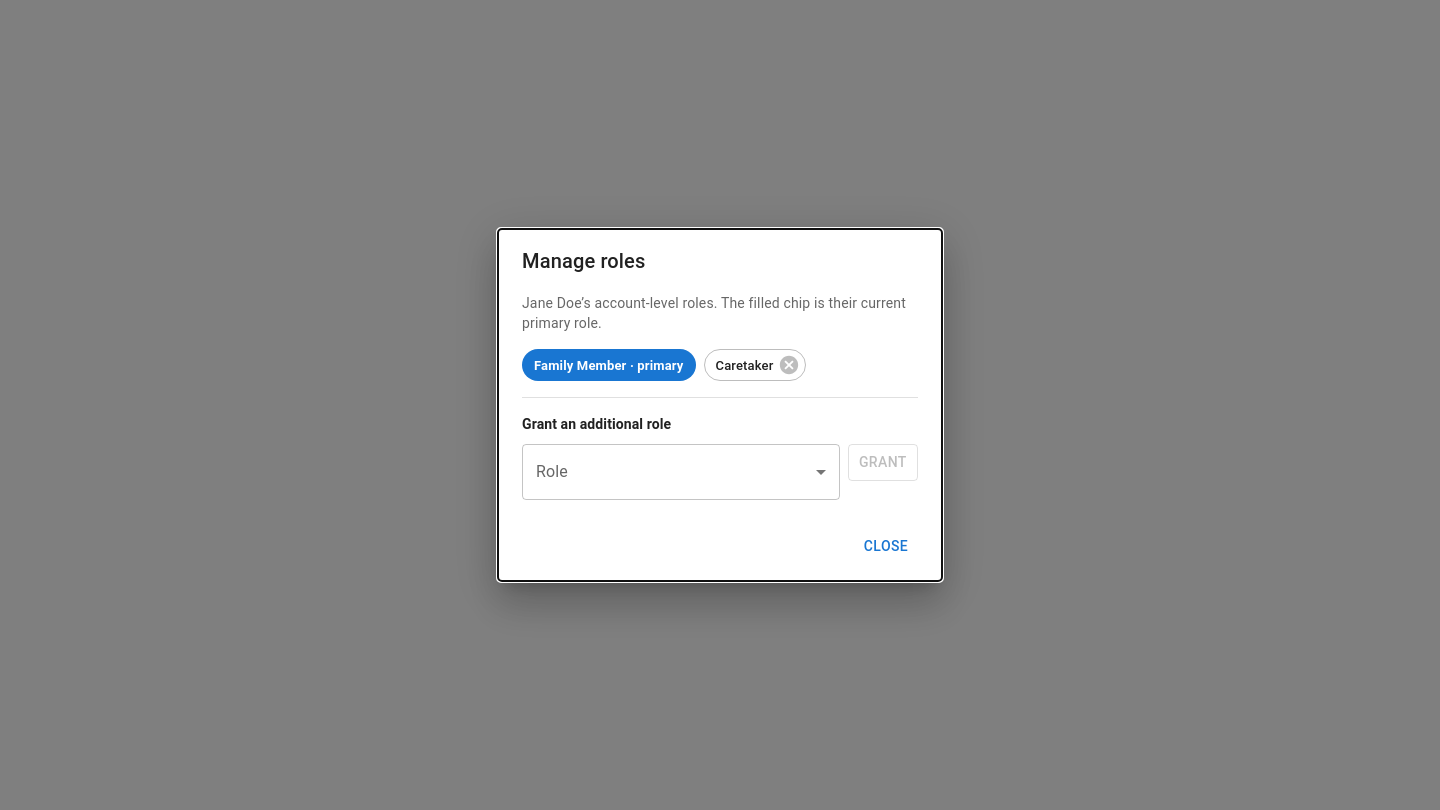
Test case: ManageUserRolesDialog › revokes a non-primary role on chip delete
The width and height of the screenshot is (1440, 810).
Click the icon in the row of "Family Member · primary": (789, 365) [778,354,800,376]
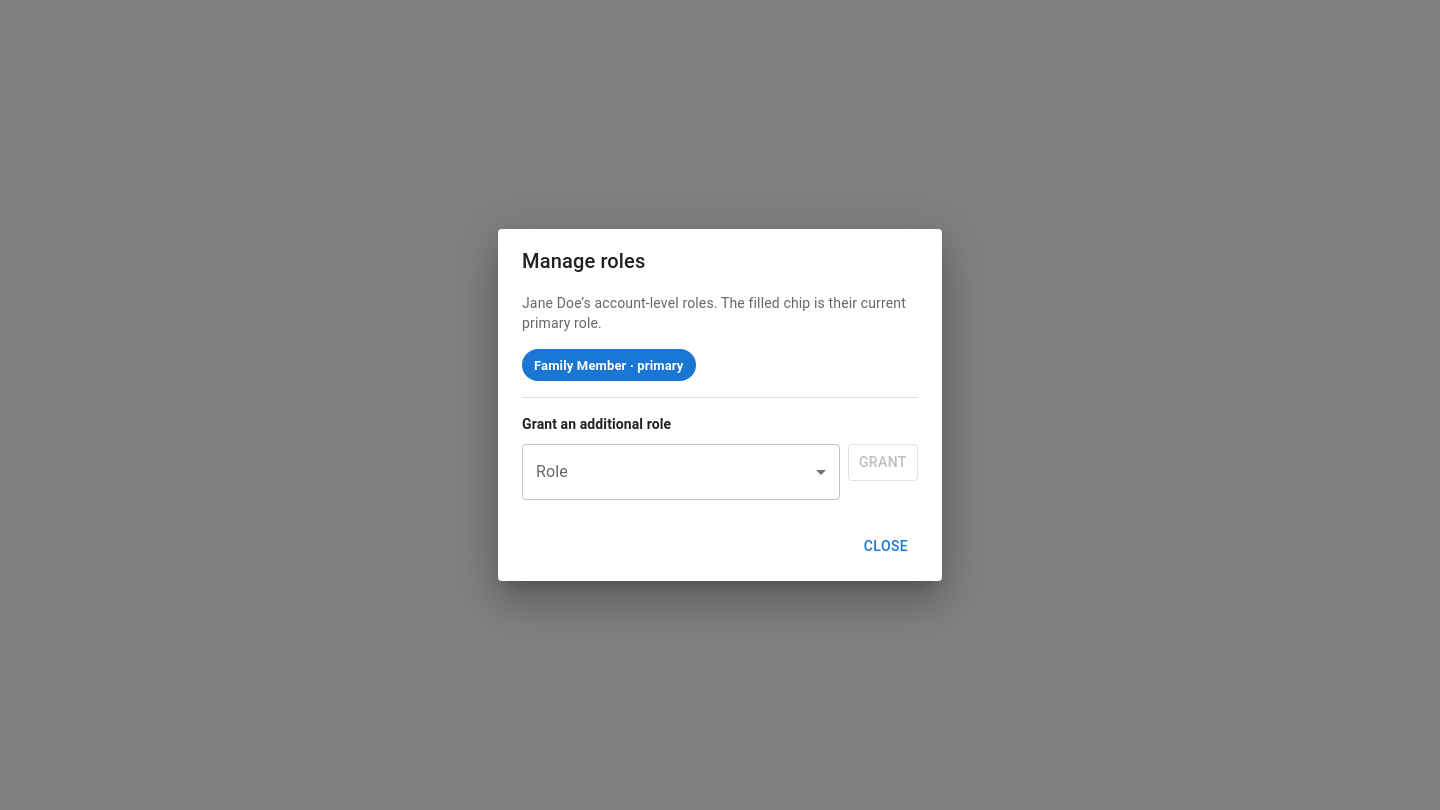
Now the button "Caretaker" is gone
